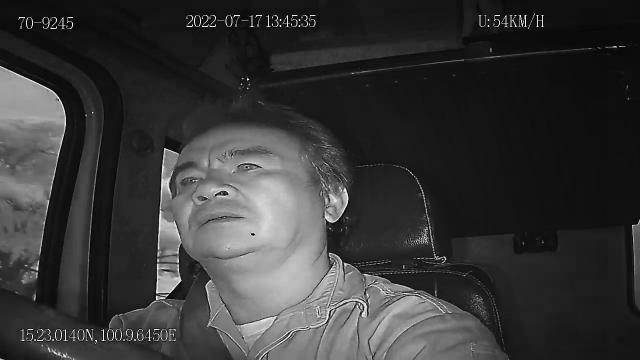SafeDriving: (225, 148, 274, 180), (173, 165, 210, 192)
Seatbelt: (178, 268, 236, 360)
